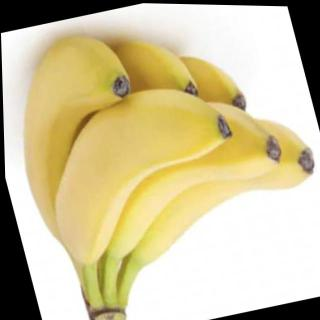banana: (25, 67, 258, 273), (61, 76, 300, 264), (0, 21, 168, 256), (92, 95, 320, 267)
